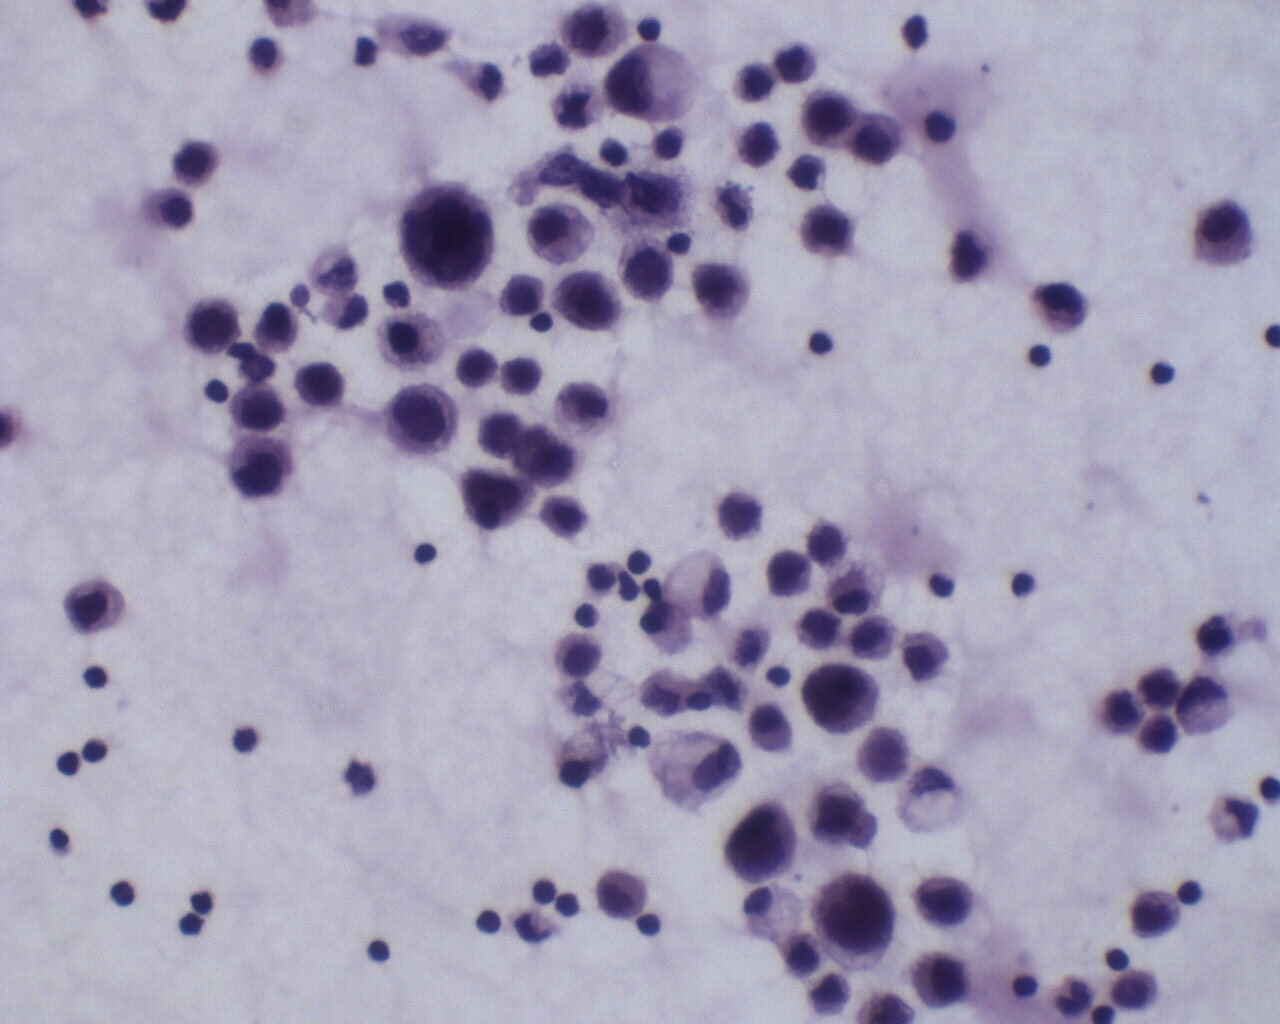ab: (395, 178, 494, 294), (810, 865, 895, 973), (720, 799, 805, 886), (802, 658, 886, 739), (379, 376, 459, 459), (228, 430, 298, 506), (556, 263, 624, 338), (689, 254, 755, 323), (910, 863, 975, 932), (793, 196, 861, 261), (618, 233, 677, 305), (909, 948, 970, 1013), (1127, 881, 1183, 947), (289, 356, 352, 414), (183, 297, 243, 354), (801, 85, 856, 147), (856, 723, 911, 783), (227, 382, 288, 434), (759, 546, 815, 599)
histo: (658, 550, 740, 619), (893, 766, 965, 840)
lymph: (79, 659, 116, 695), (107, 875, 139, 914), (804, 326, 839, 362), (1004, 564, 1038, 601), (362, 933, 393, 970), (53, 747, 82, 782), (1027, 338, 1051, 371), (413, 538, 438, 568)
meso: (371, 307, 451, 372), (523, 199, 599, 265), (591, 865, 657, 924)
